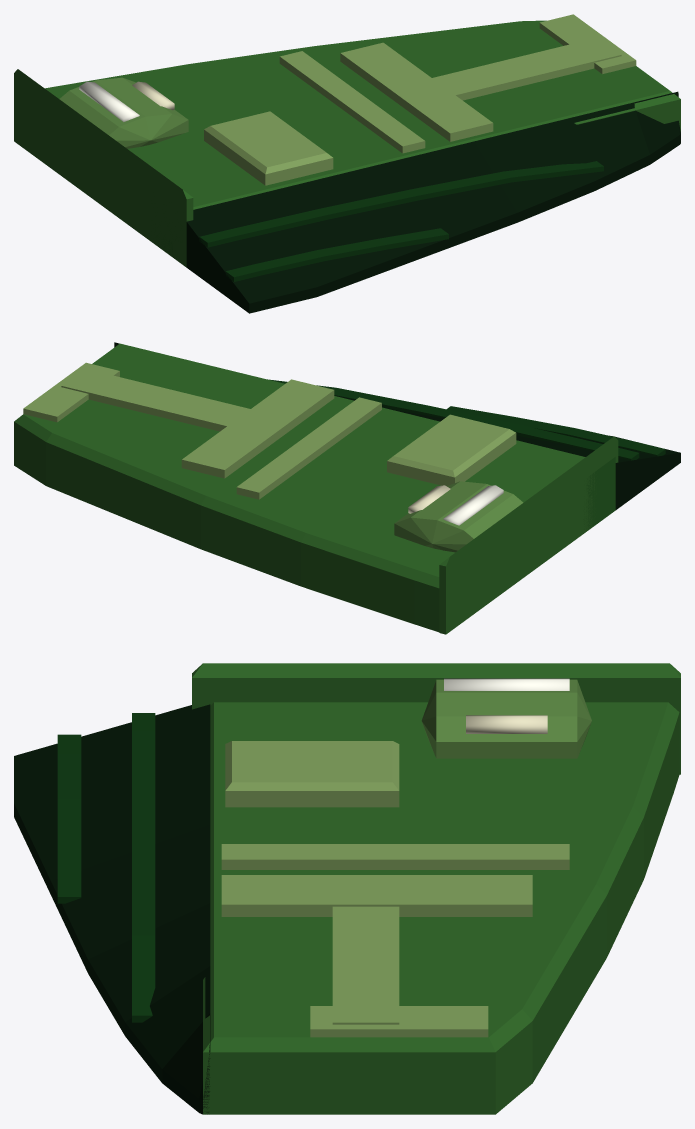
File: newshj-207.glb
3 views of the same model, one above another, from view 1: azimuth 30°, elevation 25°; view 2: azimuth 150°, elevation 25°; view 3: azimuth 270°, elevation 25° (orthographic). The views are drawn at different scales.
Visible parts, largest first — view 1: newshj-207; view 2: newshj-207; view 3: newshj-207.
Part boxes in pixels (x1,y1,x2,y2): newshj-207: [14, 14, 680, 313]; newshj-207: [14, 342, 680, 634]; newshj-207: [14, 663, 680, 1114].
Size of the model in its own units: 1.83 by 0.282 by 1.5.
